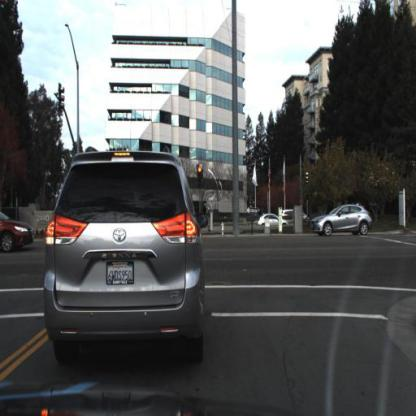car: (41, 151, 205, 371), (312, 203, 372, 239), (2, 212, 37, 256), (260, 215, 290, 233)
trafficLight: (196, 163, 205, 189)
